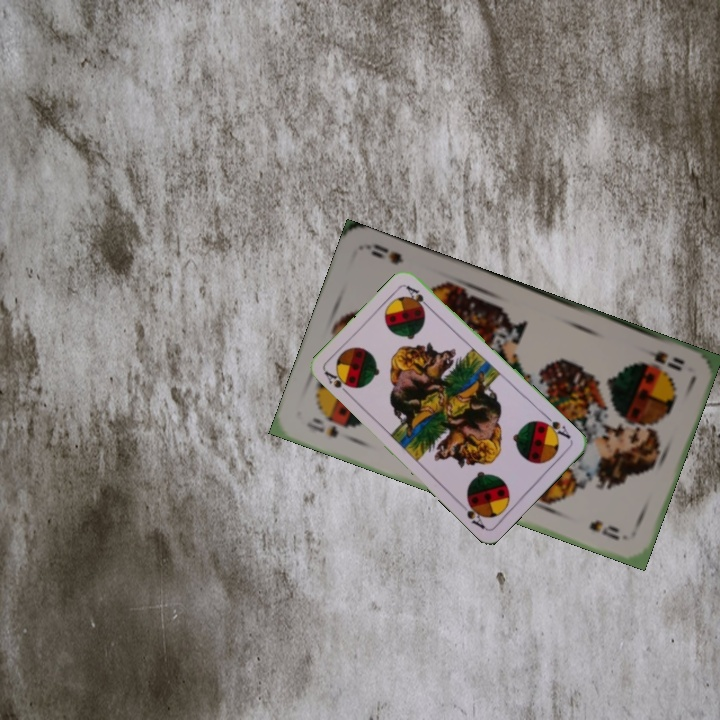SA: (320, 367, 356, 399), (537, 411, 573, 442)
SO: (634, 342, 688, 374), (302, 413, 355, 444)
